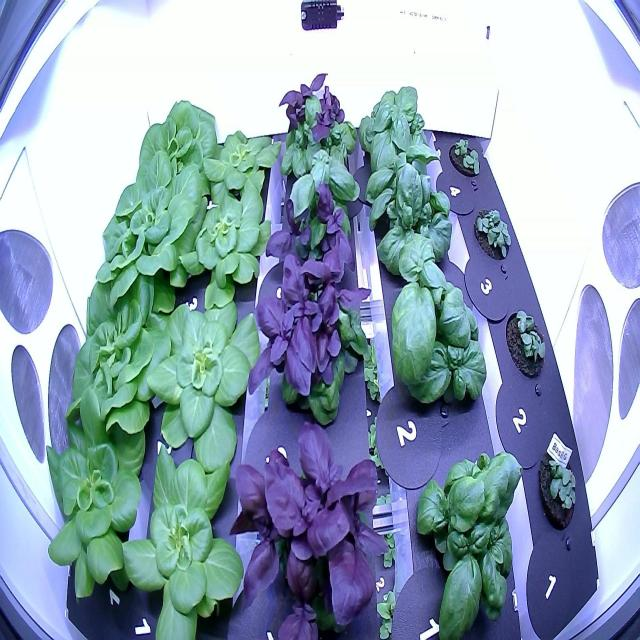germination: (533, 437, 582, 543), (503, 297, 552, 390), (445, 129, 484, 184)
young: (116, 436, 272, 640), (137, 270, 270, 482), (59, 247, 185, 453), (34, 412, 162, 613), (91, 150, 207, 308), (178, 172, 274, 305), (127, 88, 224, 208), (198, 116, 286, 205)
